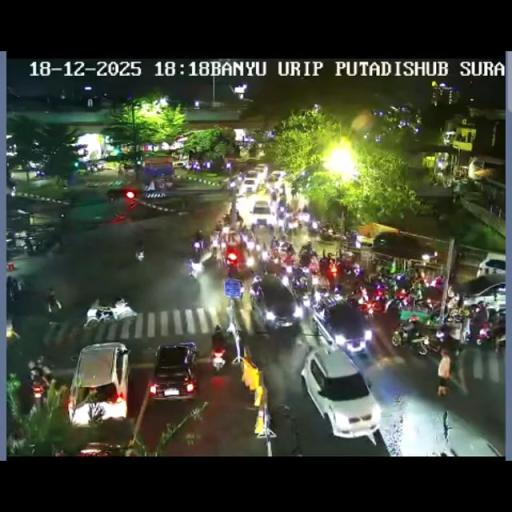Car: (301, 346, 381, 441), (68, 342, 130, 428), (311, 298, 372, 354), (149, 342, 198, 401), (250, 274, 299, 330), (461, 280, 504, 314), (74, 440, 130, 456), (476, 252, 505, 279), (250, 198, 274, 225), (107, 186, 140, 202), (242, 178, 259, 194), (253, 163, 268, 179), (172, 158, 190, 169), (269, 170, 285, 182)
Motorcycle: (190, 215, 260, 281), (432, 325, 462, 360), (353, 285, 385, 317), (474, 315, 505, 348), (83, 300, 111, 330), (390, 321, 416, 348), (389, 286, 416, 311), (110, 298, 138, 322), (30, 370, 47, 408), (24, 234, 53, 254), (210, 341, 226, 373), (457, 314, 473, 346), (339, 259, 363, 280), (318, 254, 336, 282), (290, 271, 310, 296), (270, 234, 292, 256), (45, 286, 61, 314), (420, 273, 446, 290), (186, 255, 204, 279), (311, 282, 329, 306), (239, 225, 255, 248), (6, 318, 20, 342), (317, 225, 336, 242), (256, 252, 270, 274), (225, 250, 238, 272), (344, 230, 359, 248), (420, 250, 438, 265), (446, 292, 460, 311), (286, 218, 300, 236), (297, 210, 312, 226), (298, 251, 312, 267), (331, 282, 345, 298), (226, 176, 240, 192), (192, 237, 205, 253), (282, 251, 295, 267), (209, 240, 219, 260), (277, 213, 287, 232), (162, 176, 174, 190), (134, 247, 145, 262), (244, 253, 255, 268), (214, 222, 224, 238), (222, 212, 232, 227), (260, 240, 269, 256), (278, 182, 286, 198), (16, 276, 25, 290), (270, 187, 278, 202), (310, 274, 320, 286), (310, 219, 318, 231), (268, 224, 274, 238)
